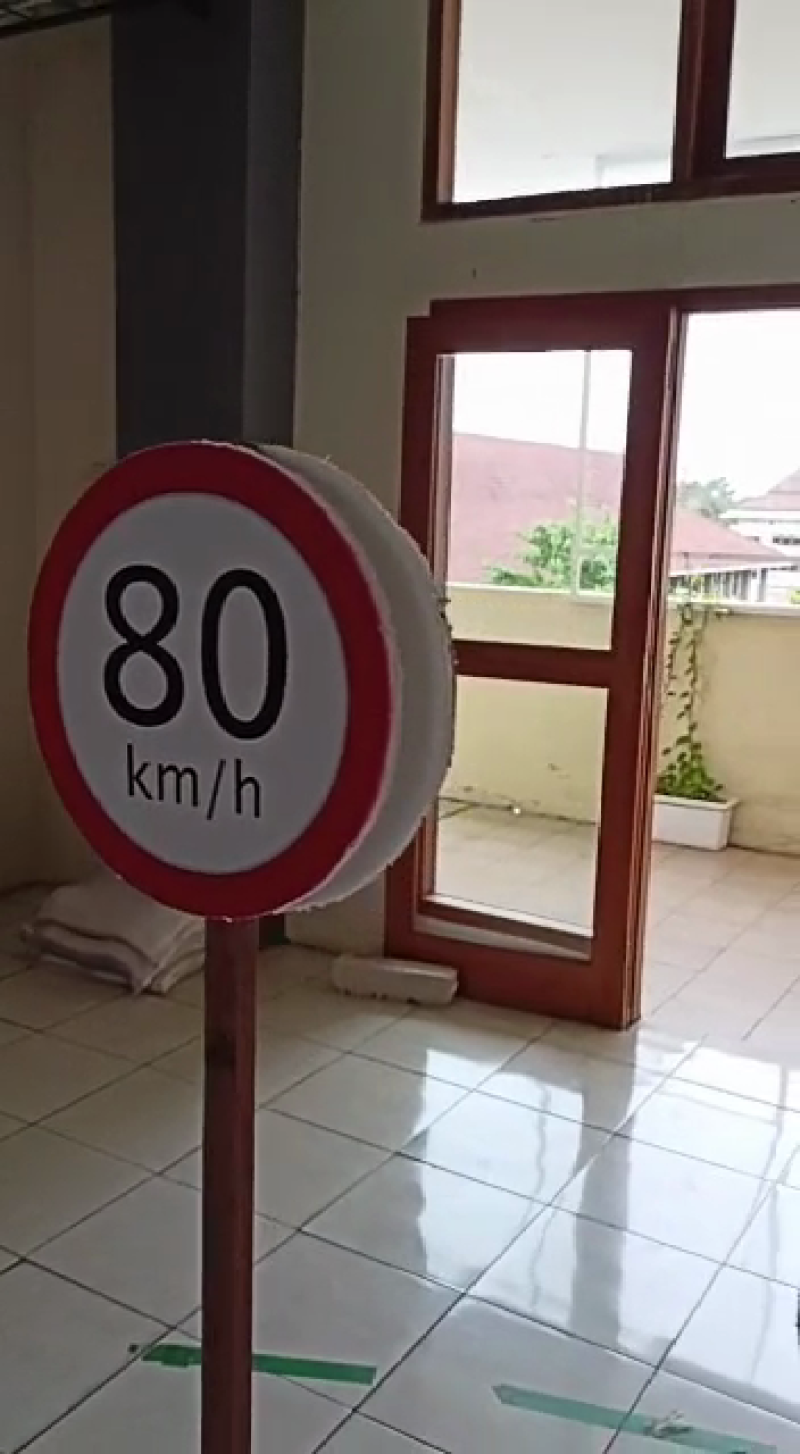batas maksimal 80kmperjam: (1, 435, 411, 929)
